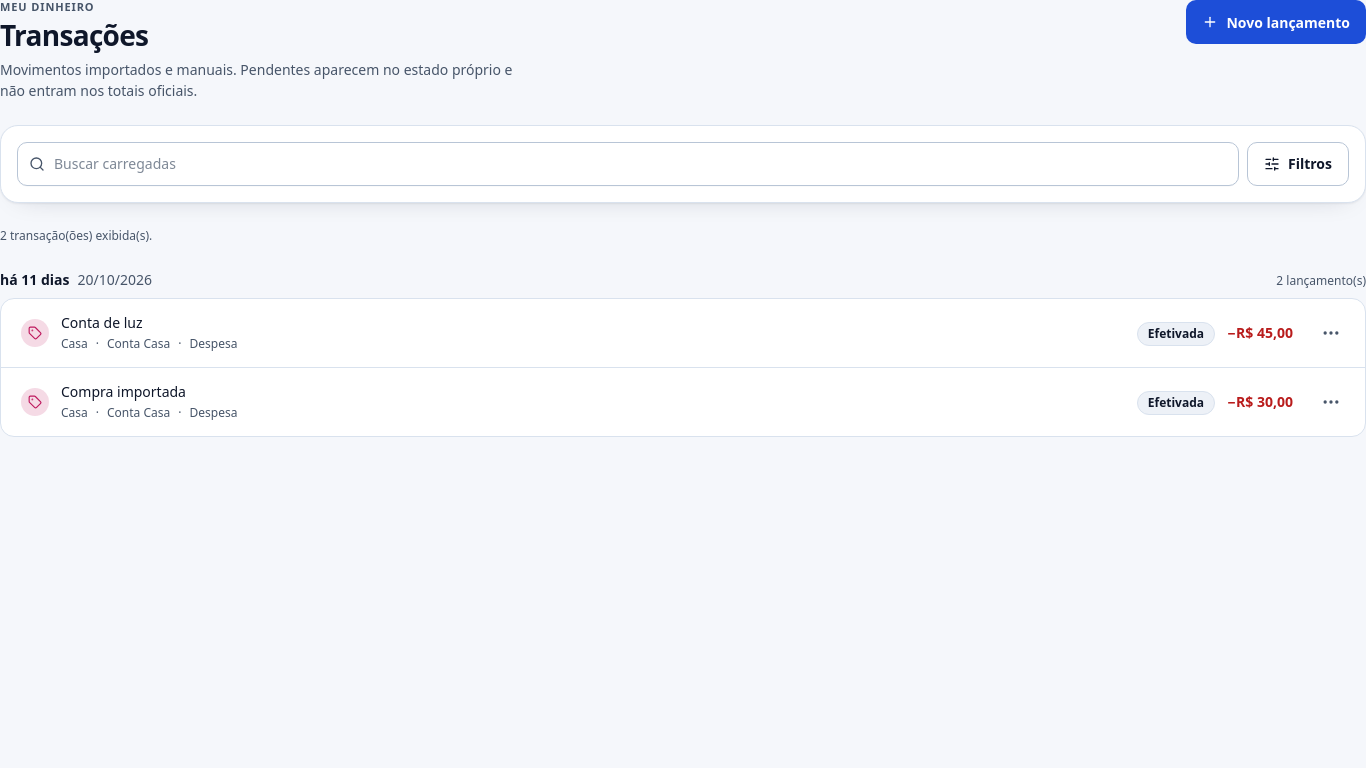
Test: exclusão de lançamento manual › mostra o erro do servidor ao recusar a exclusão
This screenshot has width=1366, height=768.
Click the text "Conta de luz" at (102, 323), box top-left (61, 313), bottom-right (142, 332)
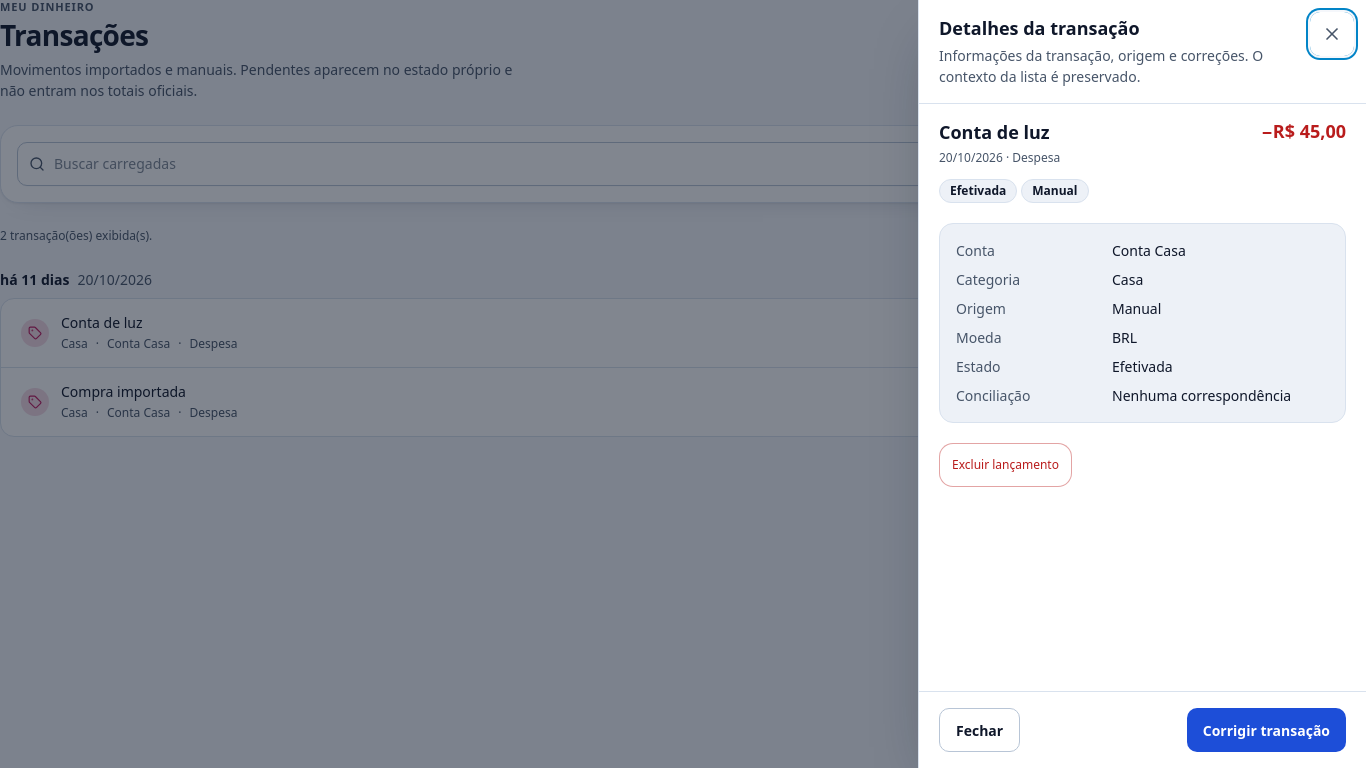
Click the button "Excluir lançamento" at (1006, 465), box top-left (939, 443), bottom-right (1072, 487)
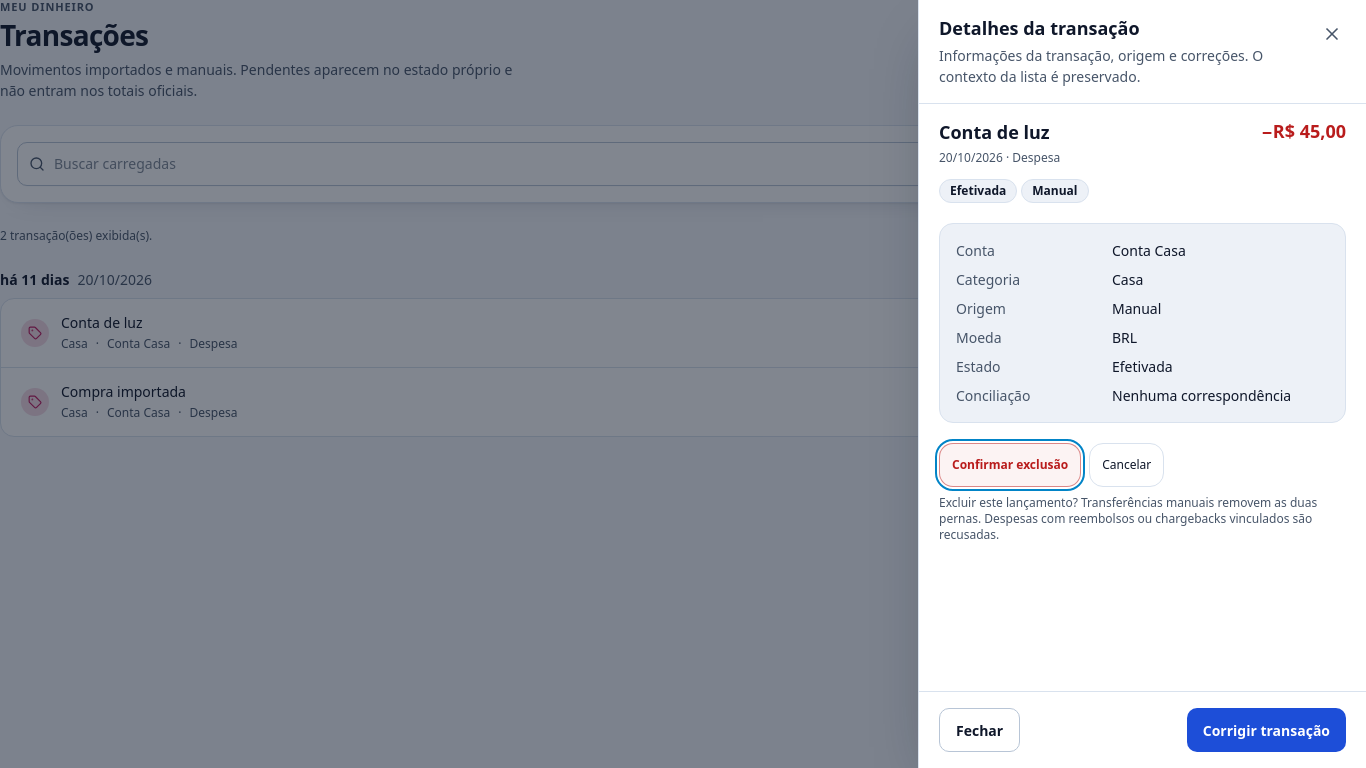
Click the button "Confirmar exclusão" at (1010, 465), box top-left (939, 443), bottom-right (1081, 487)
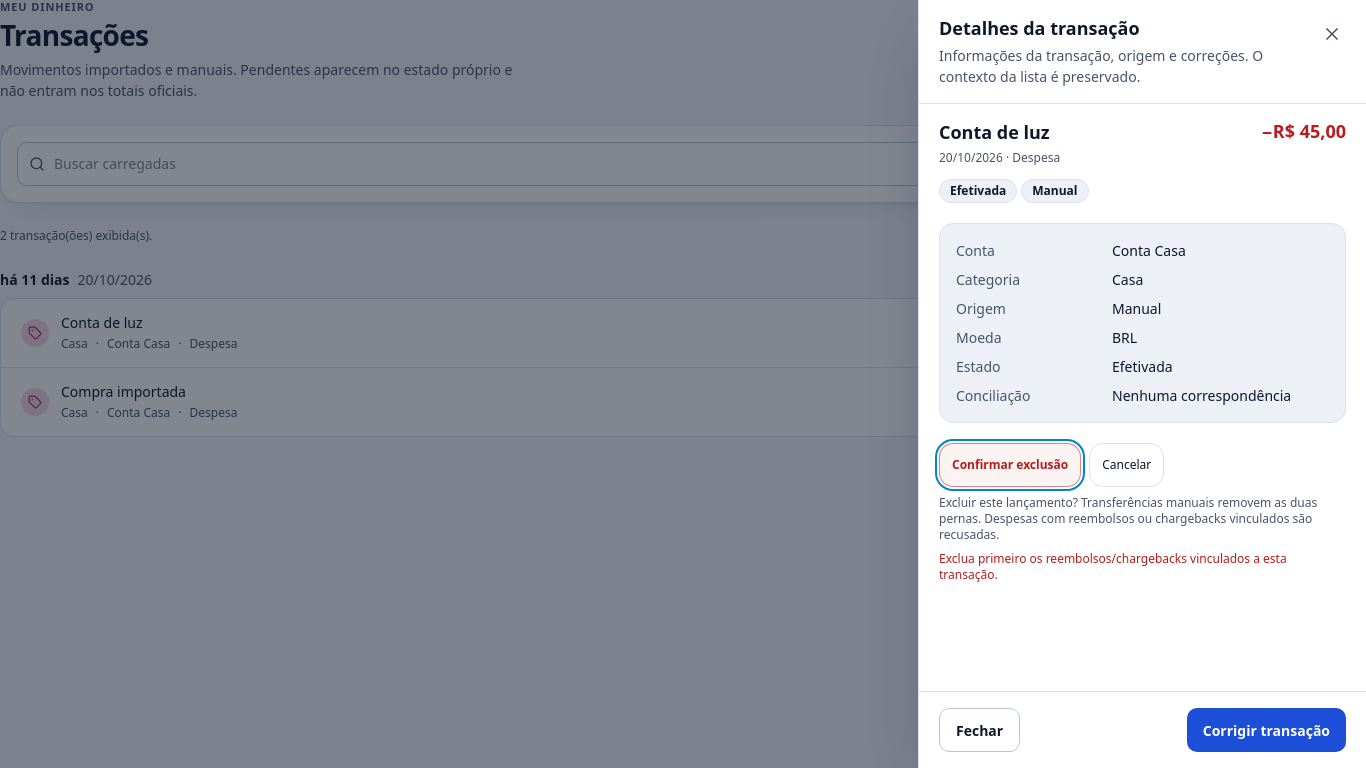
Expected: the text "Exclua primeiro os reembolsos/chargebacks vinculados a esta transação." is shown, top-left (939, 551), bottom-right (1346, 583)
